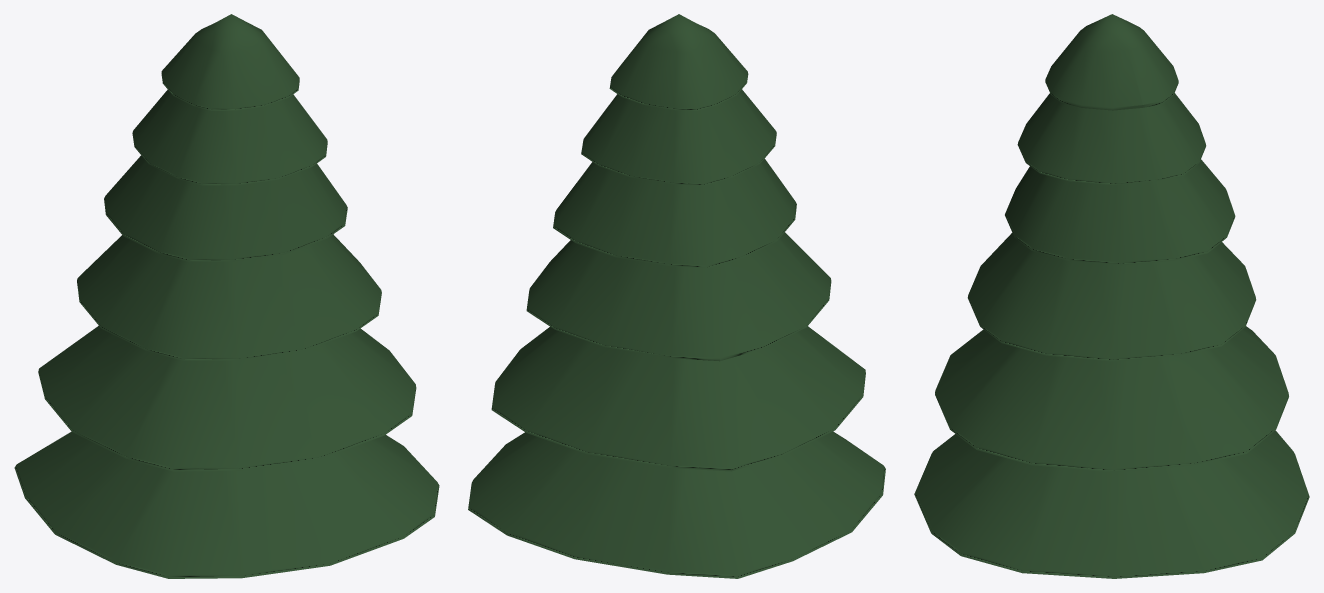
File: Tree2.fbx
The picture shows the model from 3 angles, left to right: view 1: azimuth 30°, elevation 25°; view 2: azimuth 150°, elevation 25°; view 3: azimuth 270°, elevation 25°; orthographic projection.
Visible parts, largest first — view 1: pCube1; view 2: pCube1; view 3: pCube1.
Part boxes in pixels (left/top/right/bottom): pCube1: left=14, top=14, right=439, bottom=578; pCube1: left=468, top=14, right=885, bottom=578; pCube1: left=914, top=14, right=1309, bottom=578.
Size of the model in its own units: 12.62 by 18.48 by 12.33.
